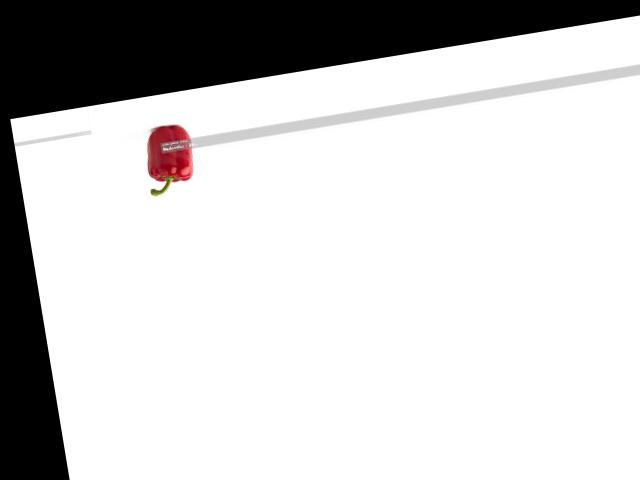bell_pepper: (134, 123, 202, 201)
